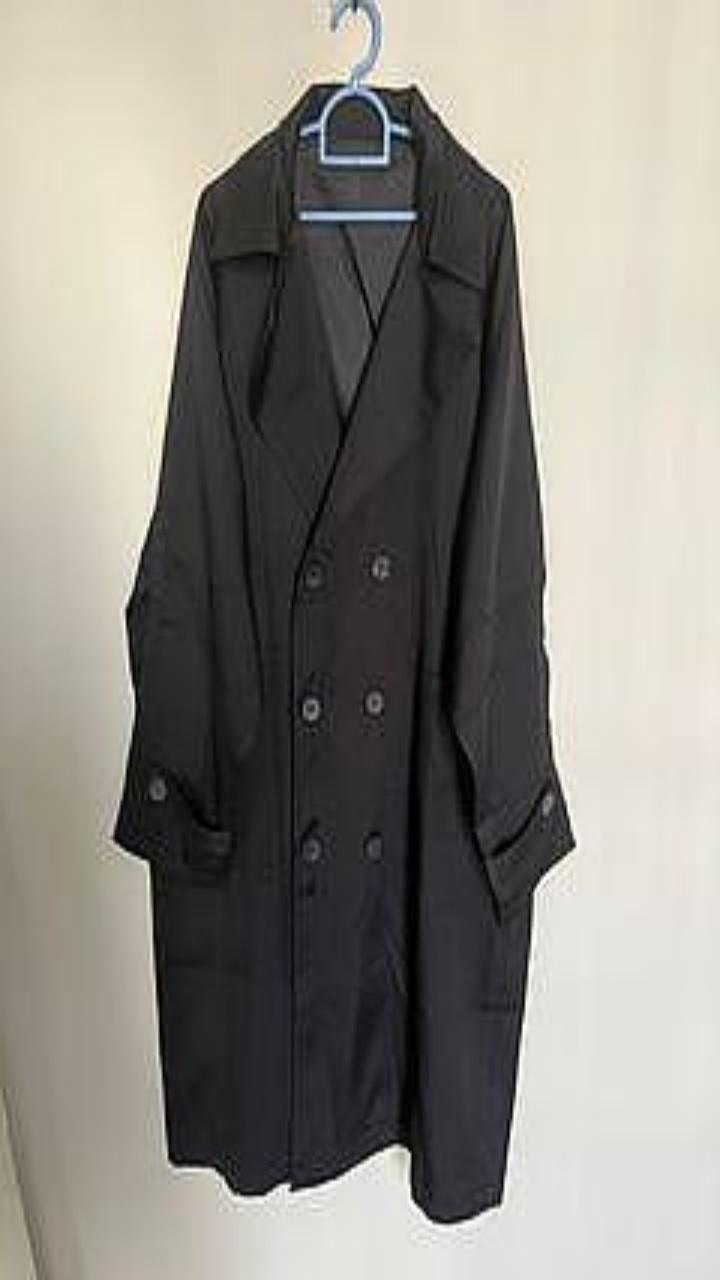Coat: (113, 84, 574, 1221)
